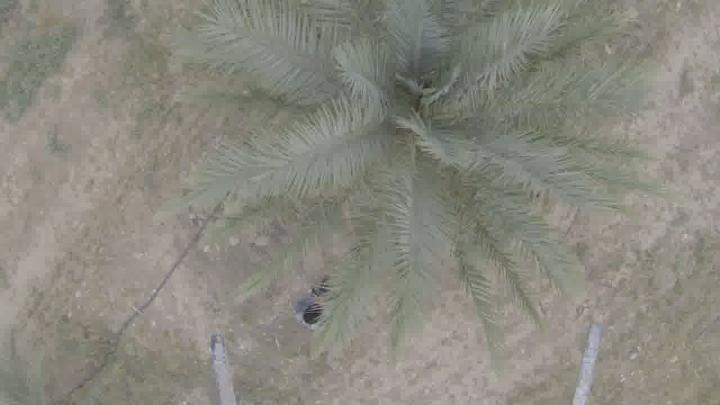Date-Palm-Crown: (298, 2, 574, 247)
